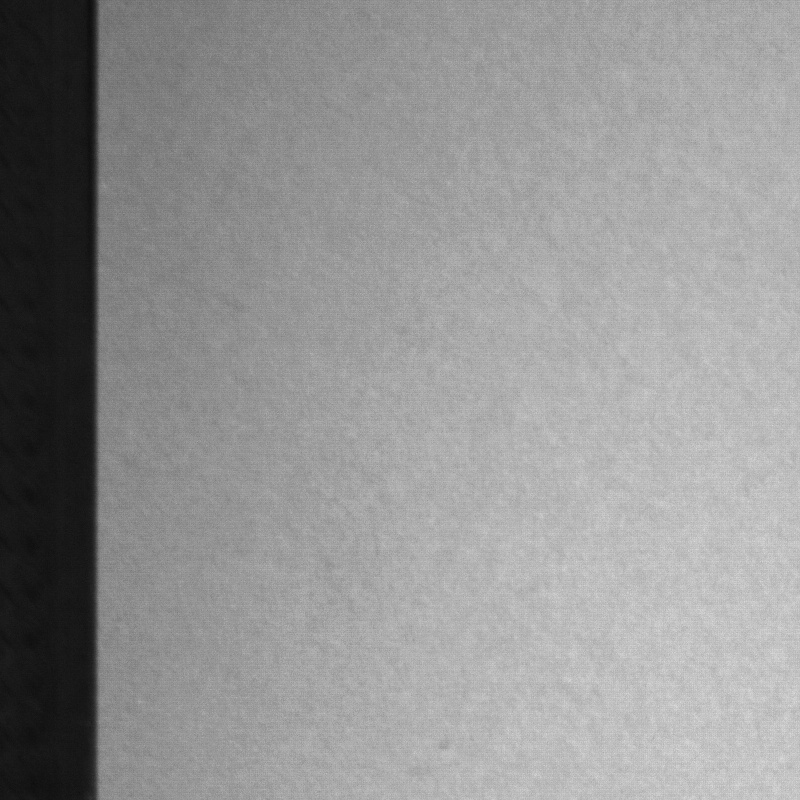defect: (440, 734, 454, 755)
